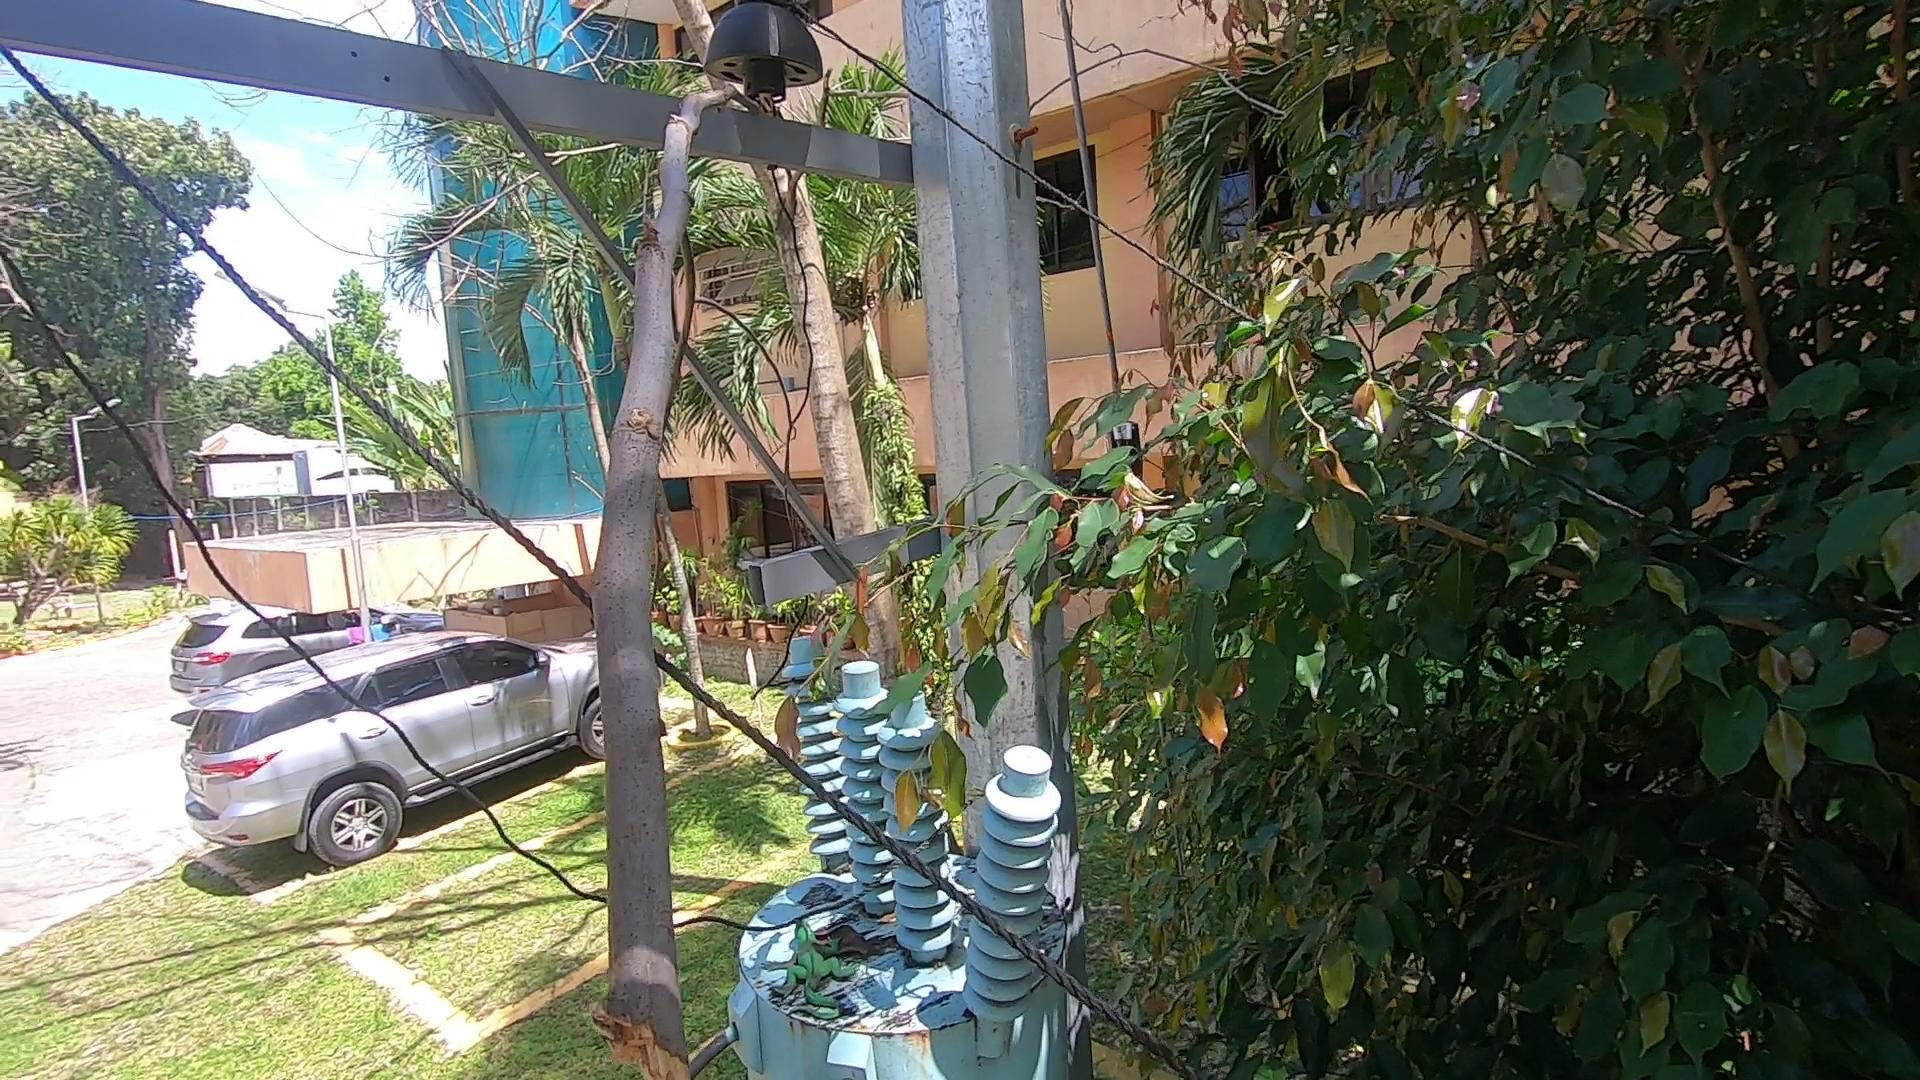branch with leaves: (771, 495, 1051, 862)
leaf: (803, 903, 901, 978), (816, 858, 860, 891)
tree branch: (591, 41, 787, 1069)
